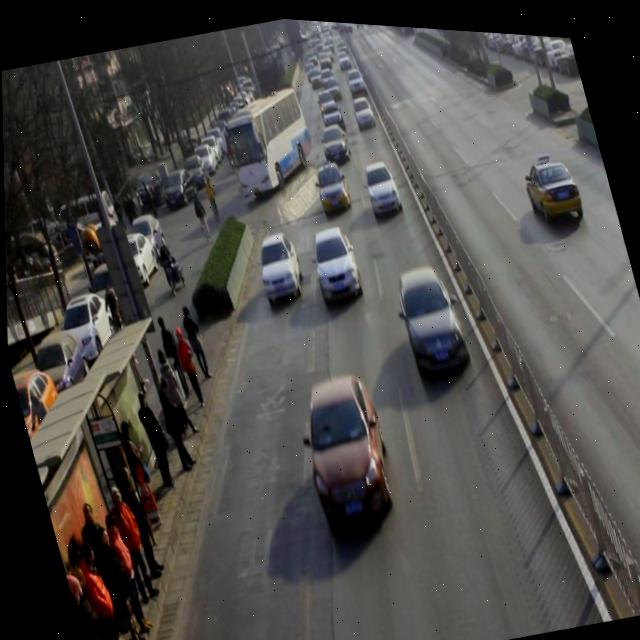car: (285, 360, 404, 533), (389, 255, 472, 376), (303, 218, 365, 302), (519, 145, 585, 222), (250, 225, 308, 304), (359, 153, 403, 214), (310, 155, 354, 215), (317, 118, 353, 162), (348, 89, 377, 128), (317, 95, 346, 132)
van: (216, 77, 323, 197)
